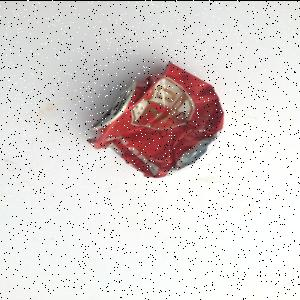Can: (86, 61, 225, 179)
